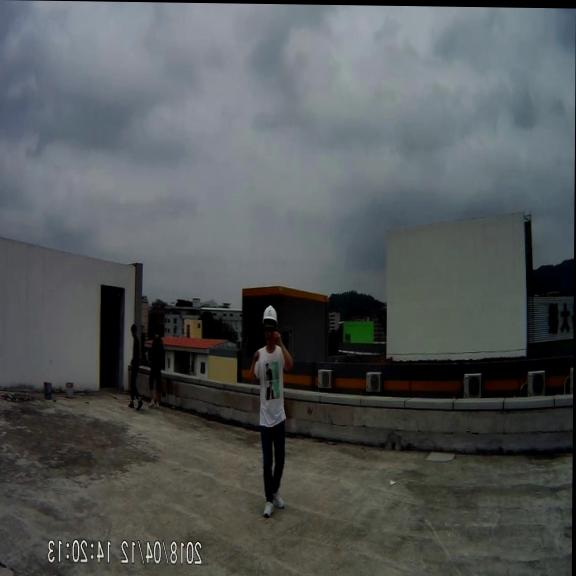no_safety_vest: (256, 343, 289, 437)
